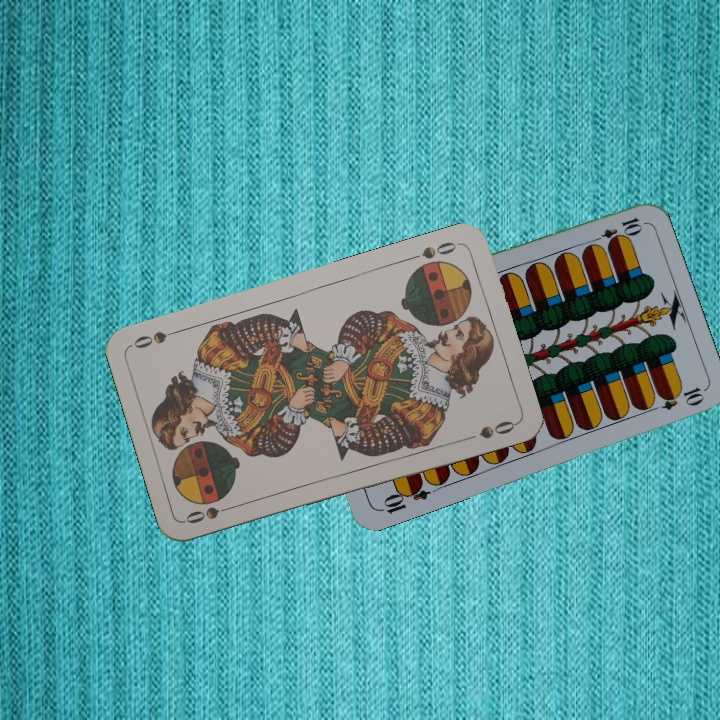E10: (375, 477, 432, 518), (587, 213, 645, 247)
SO: (181, 500, 240, 527), (405, 237, 463, 263)
